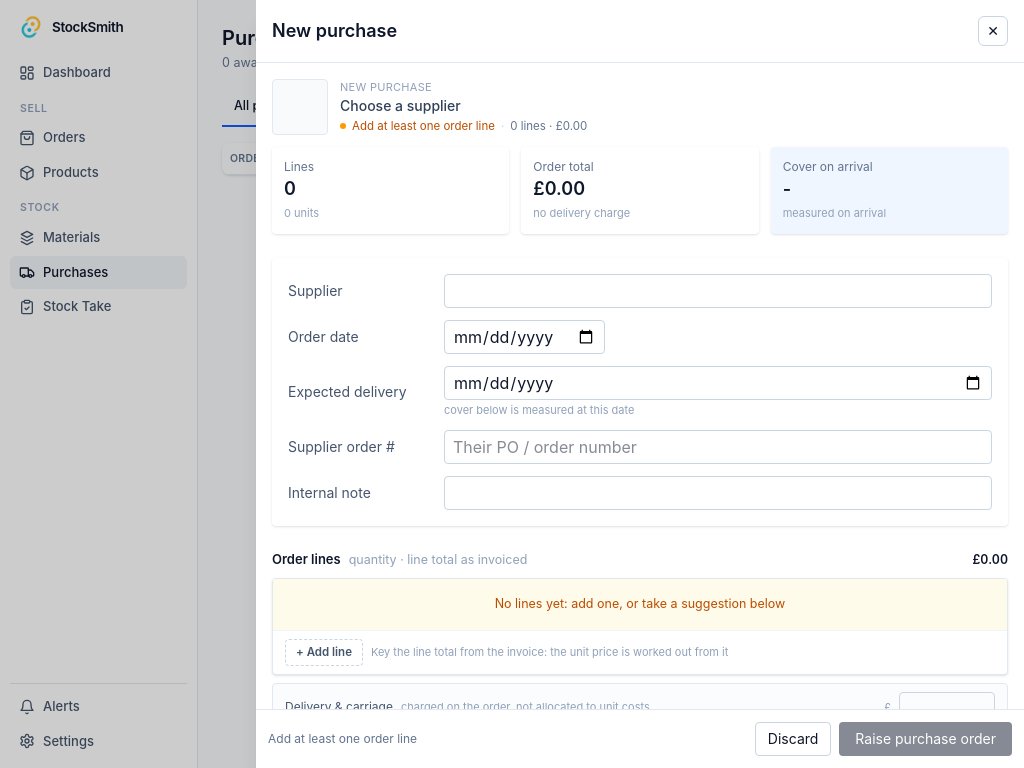
Scenario: enables the action once a line has a quantity and a total
Expected: the heading "New purchase" is shown, [272,17,397,45]
Step 1. Click the button "+ Add line" → [324, 652], box [285,638,363,666]
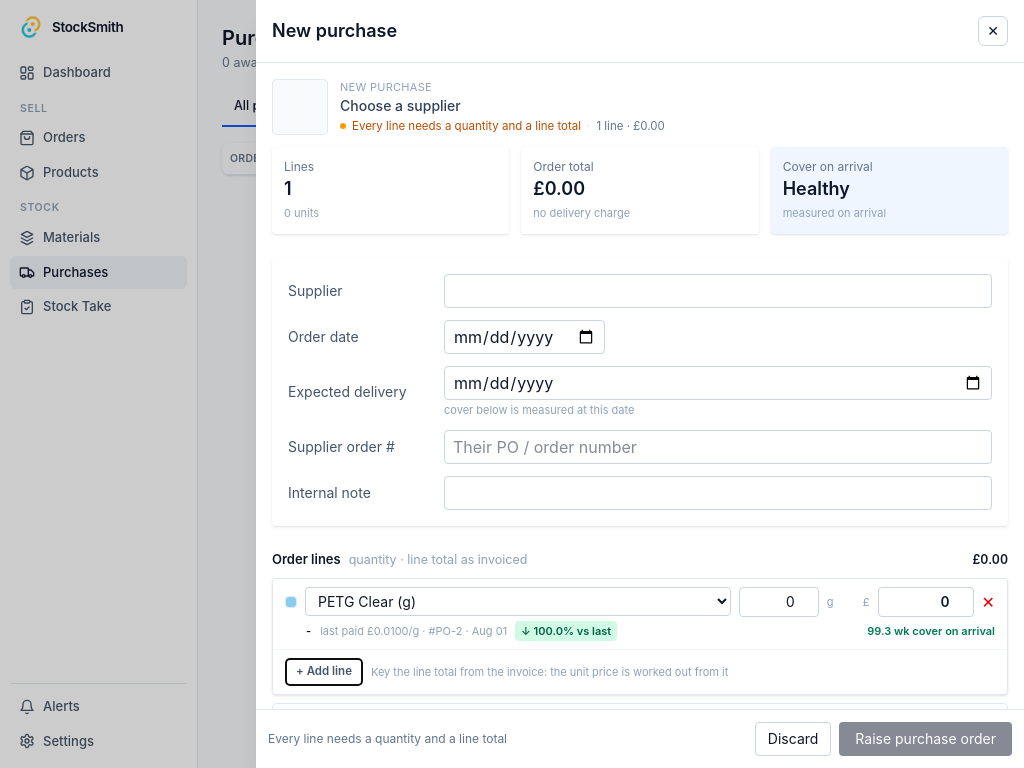
Step 2. Type "1000" into the number field named "Quantity" → [779, 602], box [739,587,819,617]
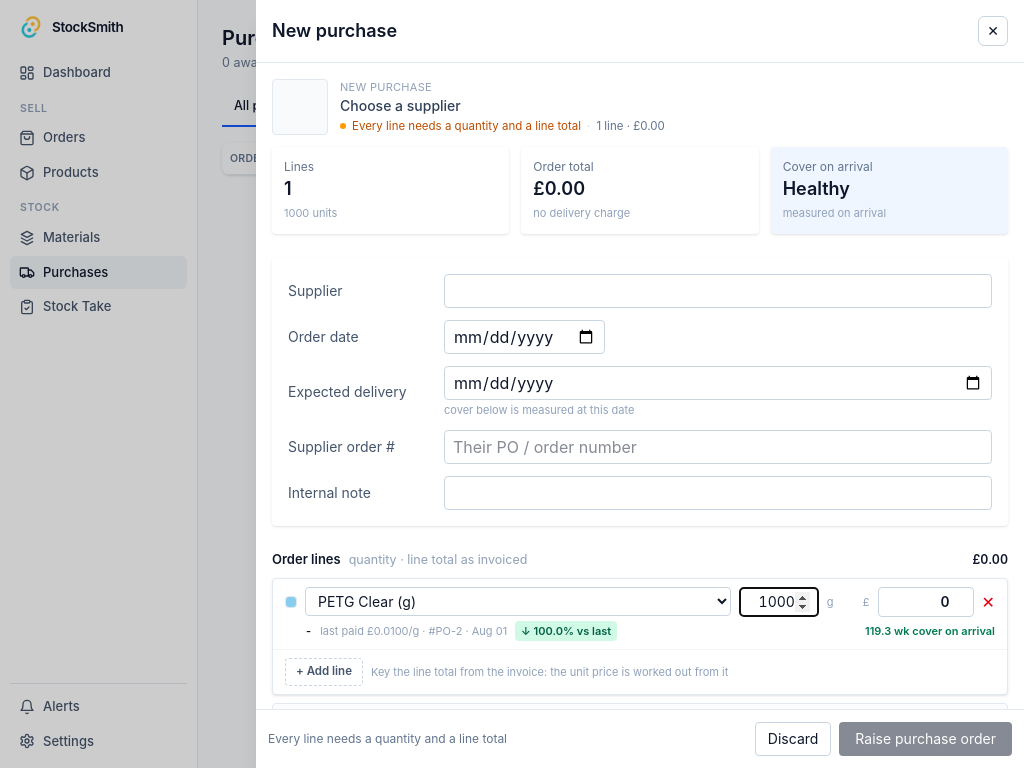
Step 3. Type "20" into the number field named "Line total" → [926, 602], box [878,587,974,617]
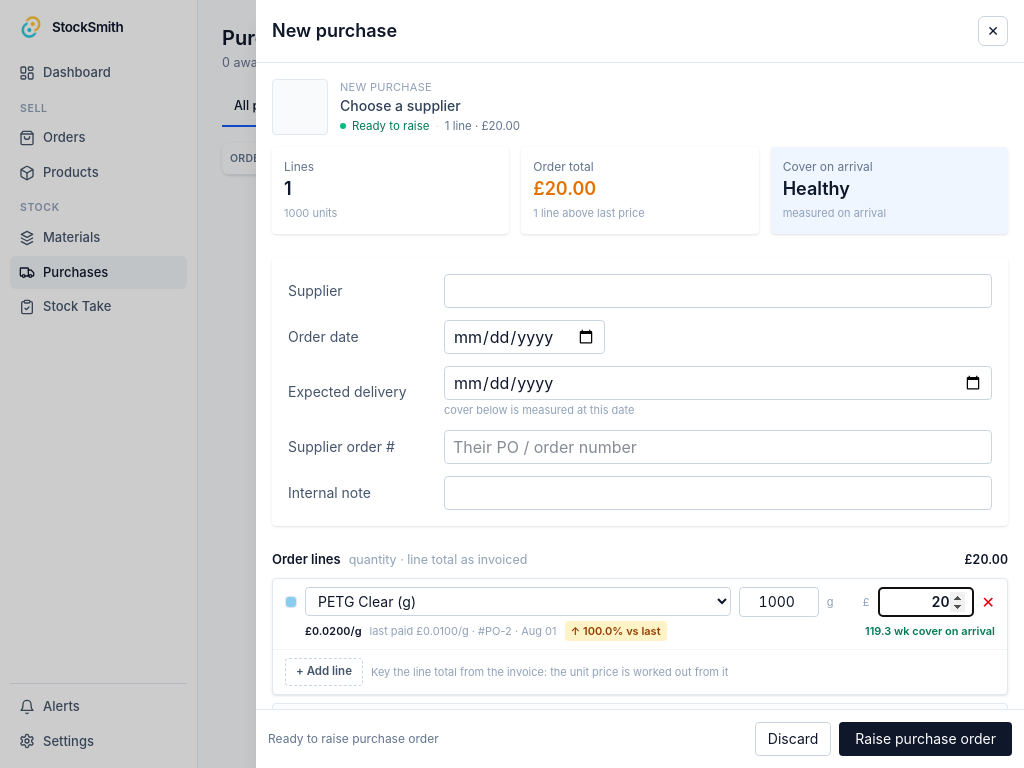
Now the button "Raise purchase order" is enabled, box [839,722,1012,756]
Now the text "Ready to raise purchase order" is shown, box [268,730,439,748]
